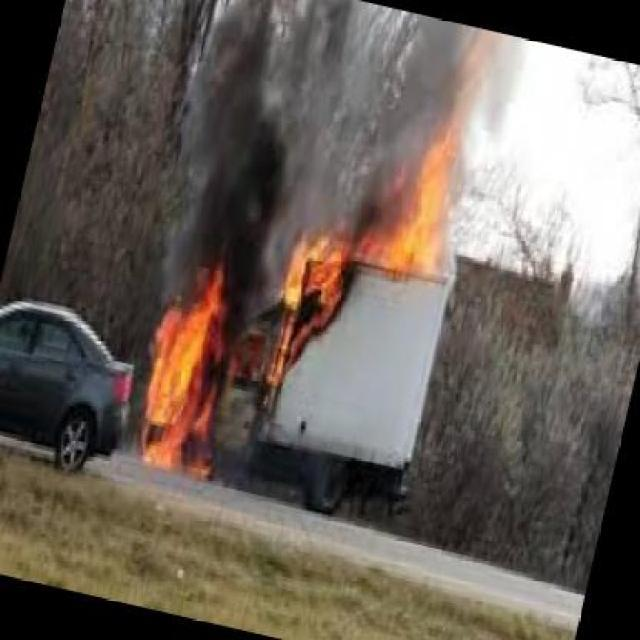Fire: (133, 280, 234, 469), (368, 123, 478, 280), (265, 236, 358, 370)
Smoke: (161, 13, 286, 251), (296, 9, 418, 188)
